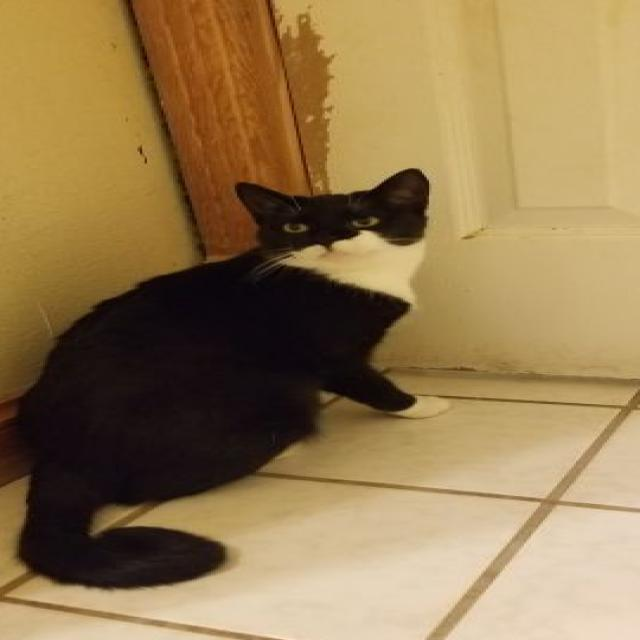Tuxedo: (5, 163, 457, 593)
